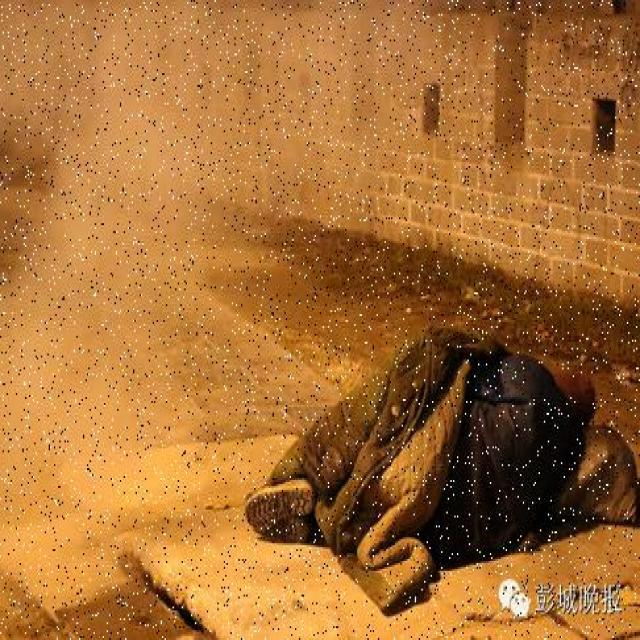fall: (268, 340, 604, 556)
